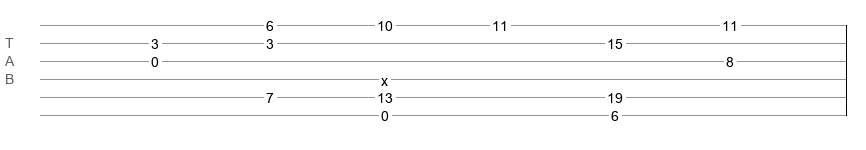0: (151, 54, 159, 64), (381, 108, 389, 118)
10: (377, 18, 393, 28)
11: (492, 18, 508, 28), (722, 18, 738, 28)
13: (377, 90, 393, 100)
15: (607, 36, 623, 46)
19: (607, 90, 623, 100)
3: (151, 36, 159, 46), (266, 36, 274, 46)
6: (266, 18, 274, 28), (611, 108, 619, 118)
7: (266, 90, 274, 100)
8: (726, 54, 734, 64)
x: (381, 73, 388, 81)
